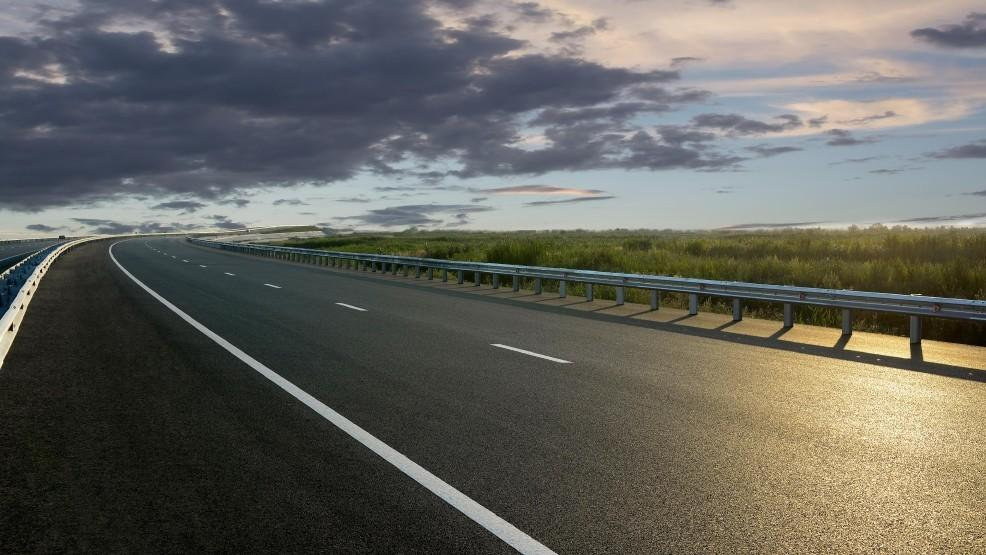cloud: (1, 0, 395, 199)
